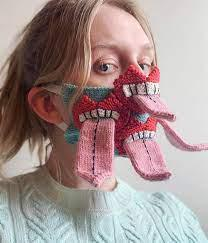OK: (66, 39, 160, 154)
